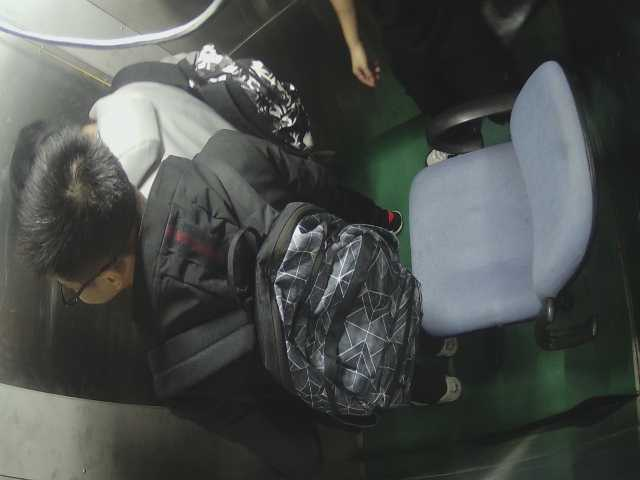bag: (259, 188, 421, 430), (188, 42, 334, 164)
chair: (388, 58, 617, 363)
person: (14, 135, 447, 413)
